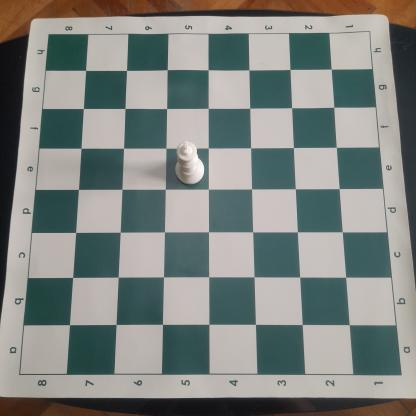white-king: (174, 138, 206, 186)
